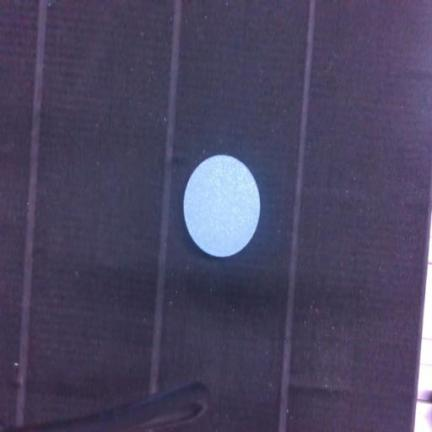cylinder: (183, 154, 260, 257)
